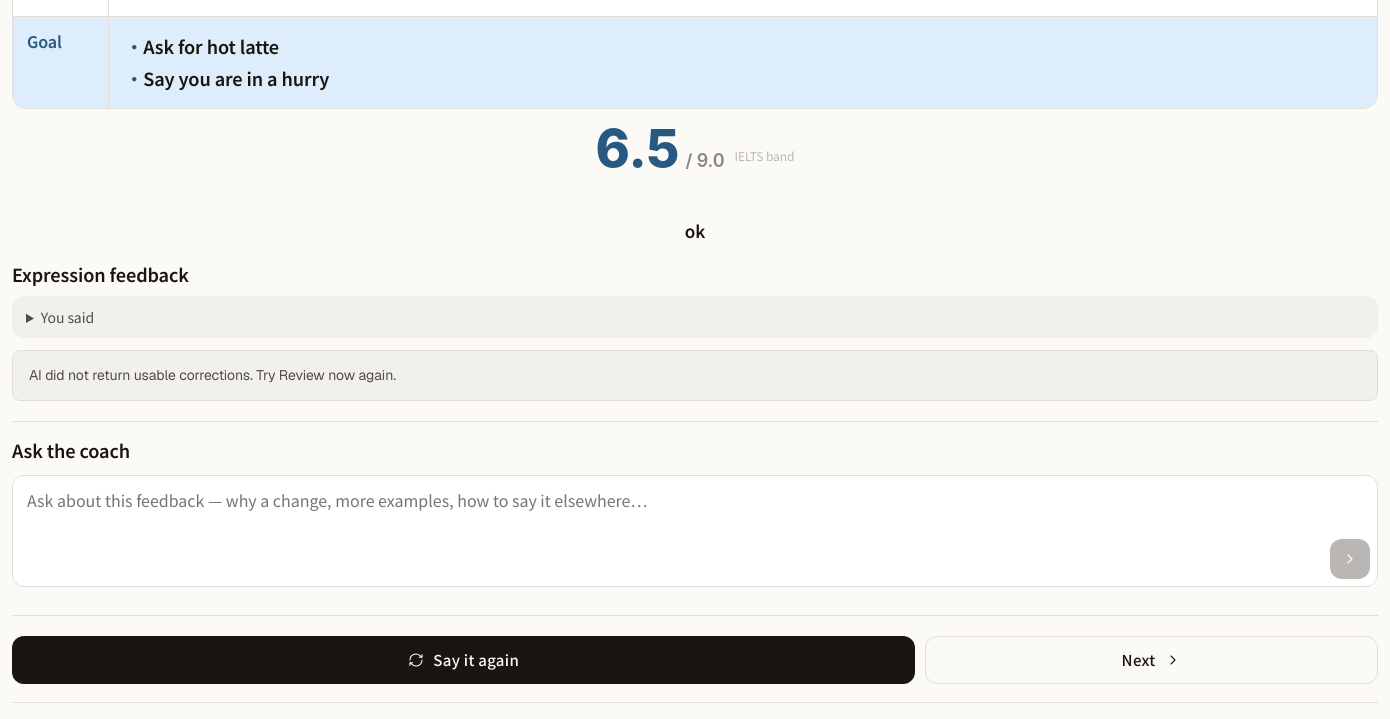
Test: PracticePage result actions › renders an error message in chat when chatStream errors
(page scrolled)
Expected: the heading "Ask the coach" is shown, [12, 437, 130, 463]
Type "为什么？" into the text box with placeholder "Ask about this feedback" at x=695, y=531, box [12, 475, 1378, 587]
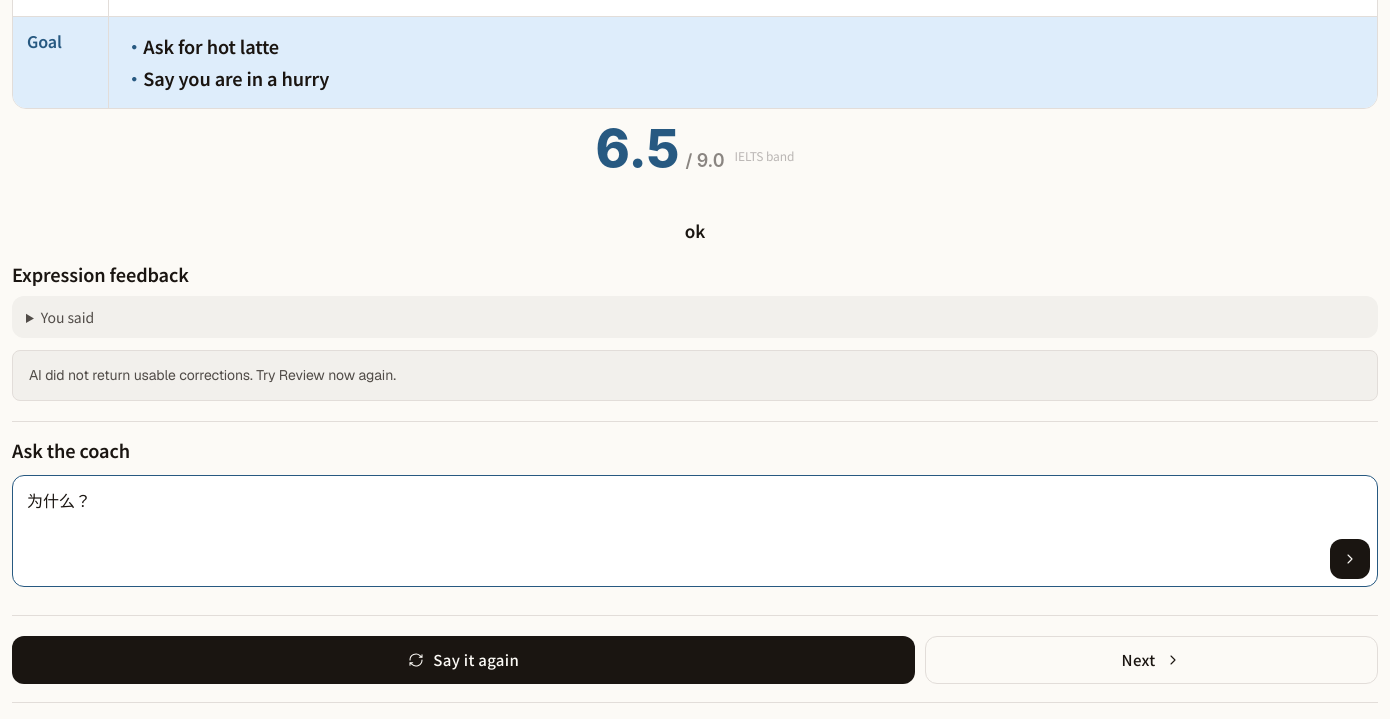
Press Enter
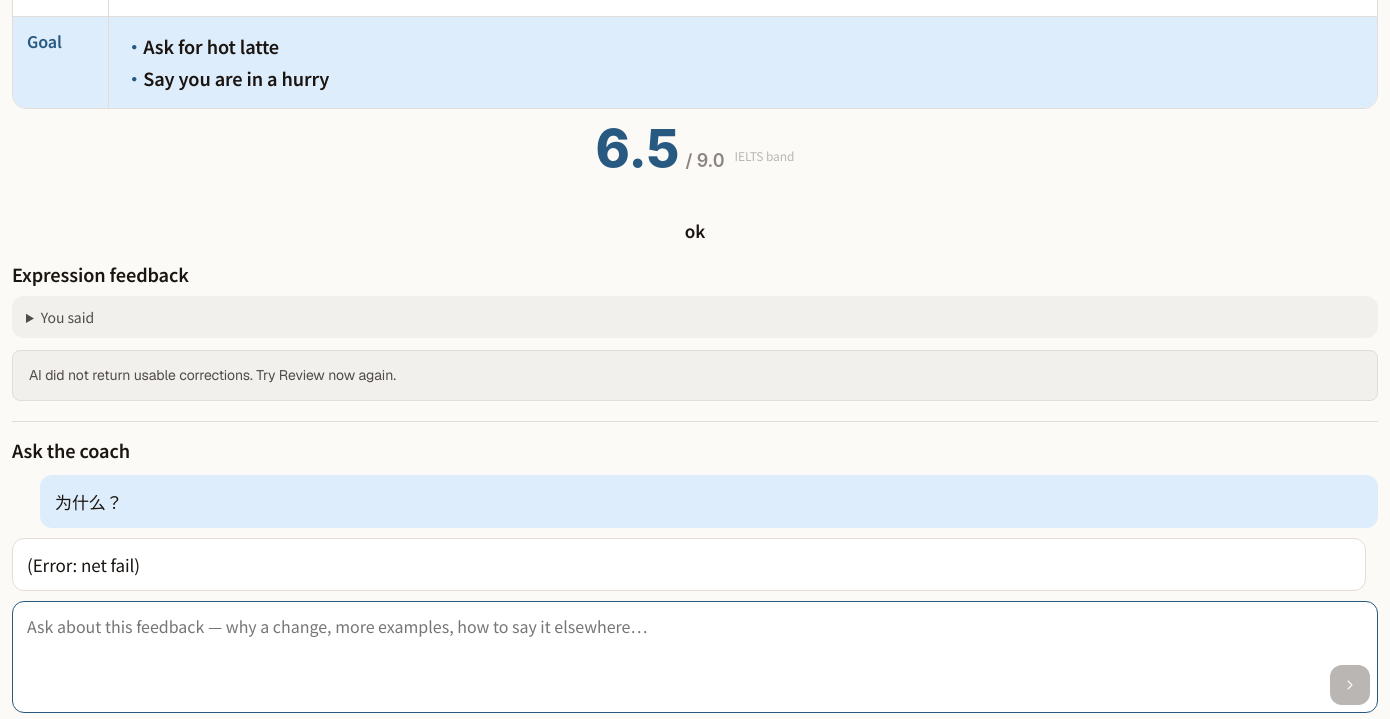
Now the text "(Error: net fail)" is shown, box [12, 538, 1366, 591]
